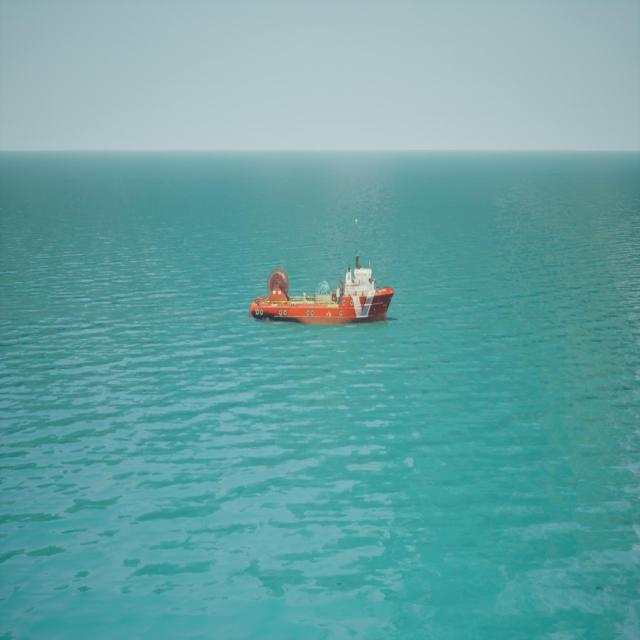tug boat: (249, 236, 397, 328)
